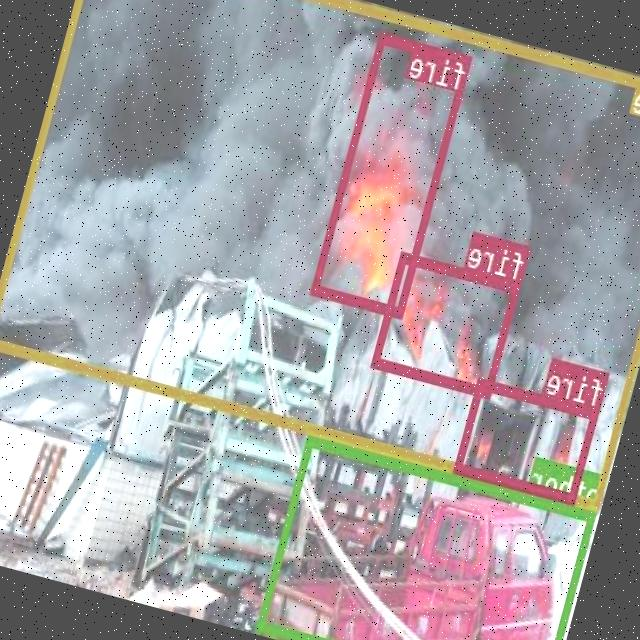fire: (312, 31, 474, 316), (372, 250, 522, 396), (456, 376, 601, 502)
smoke: (0, 0, 640, 508)
